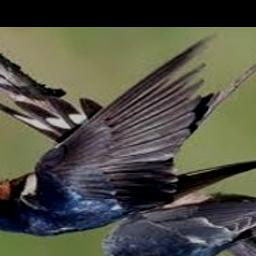Swallow: (0, 37, 256, 237), (102, 200, 256, 256)
